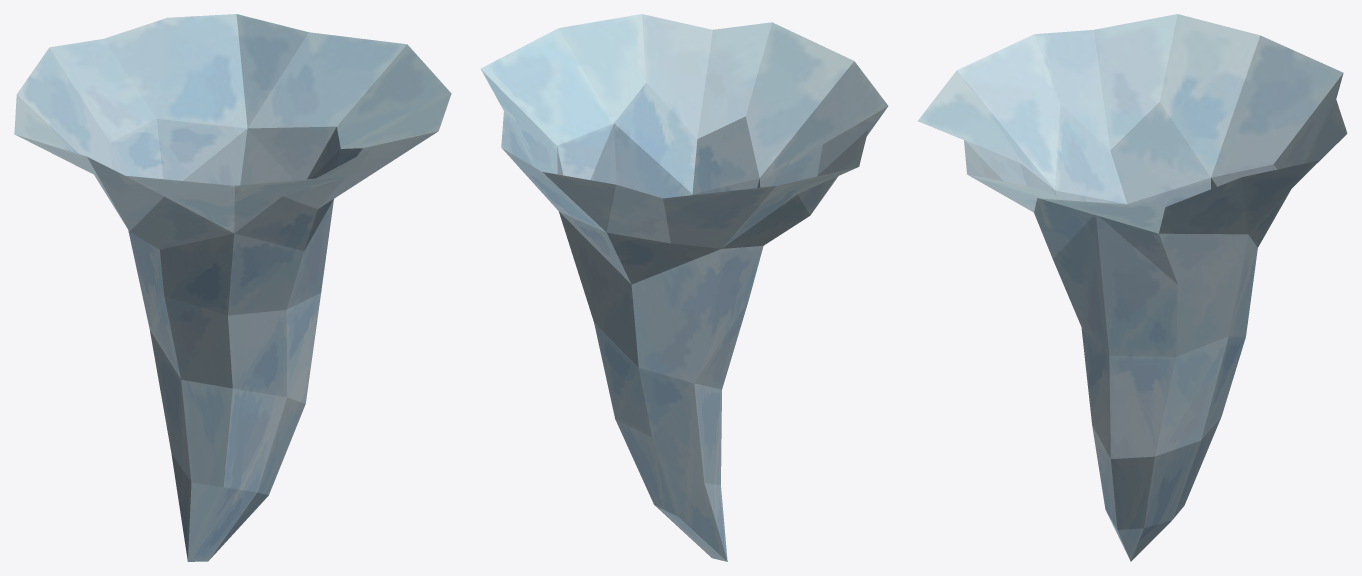
File: cavepillar4.fbx
The picture shows the model from 3 angles, left to right: view 1: azimuth 30°, elevation 25°; view 2: azimuth 150°, elevation 25°; view 3: azimuth 270°, elevation 25°; orthographic projection. The views are drawn at different scales.
Visible parts, largest first — view 1: Cube.003; view 2: Cube.003; view 3: Cube.003.
Boxes of the visible parts, x1=… form: Cube.003: x1=14, y1=14, x2=451, y2=561; Cube.003: x1=480, y1=14, x2=888, y2=561; Cube.003: x1=917, y1=14, x2=1347, y2=561.
Bounding box in the file's own units: 889 × 993 × 837.
